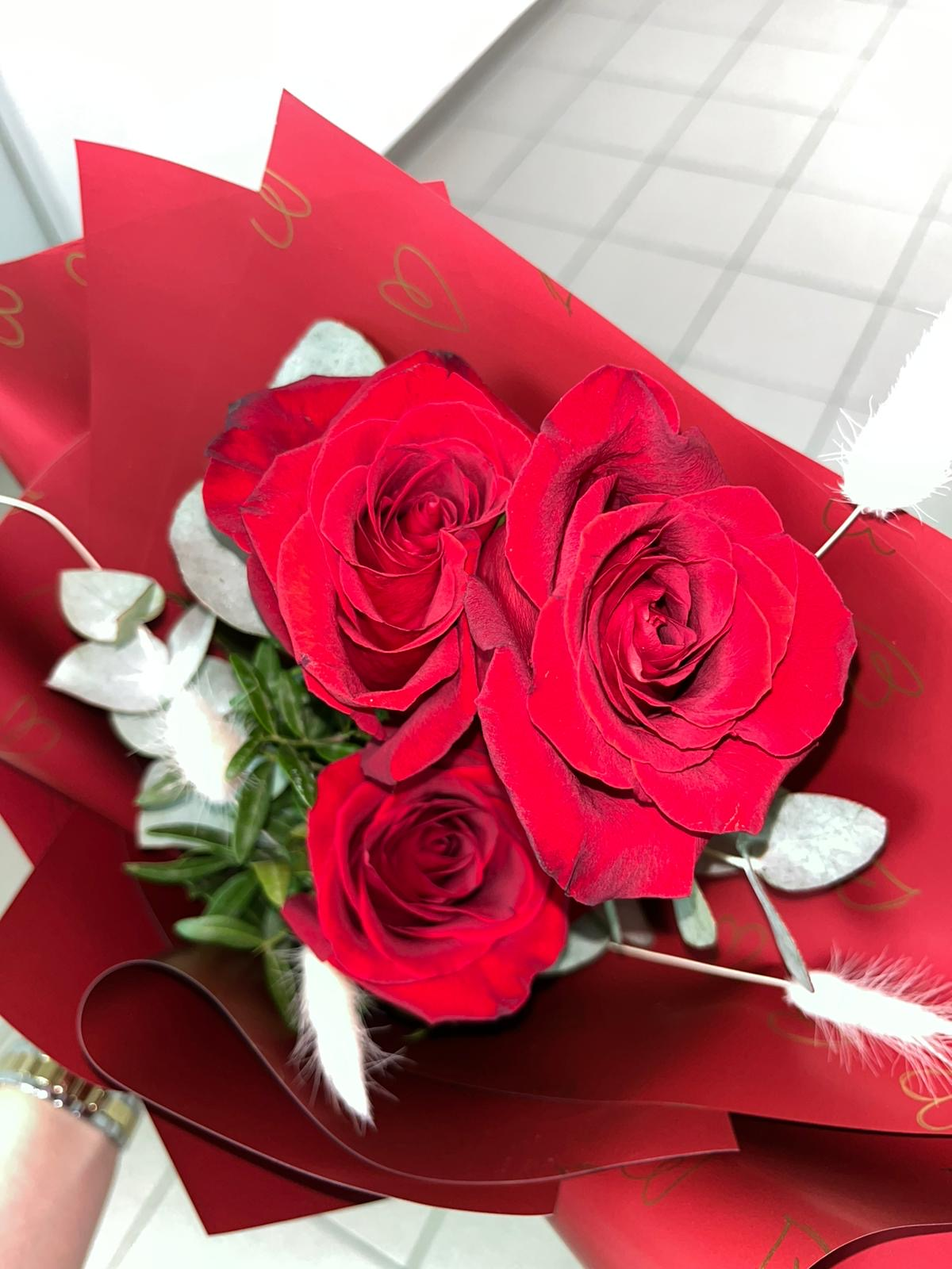rose: (476, 357, 848, 889), (196, 312, 554, 751), (306, 690, 586, 1034)
